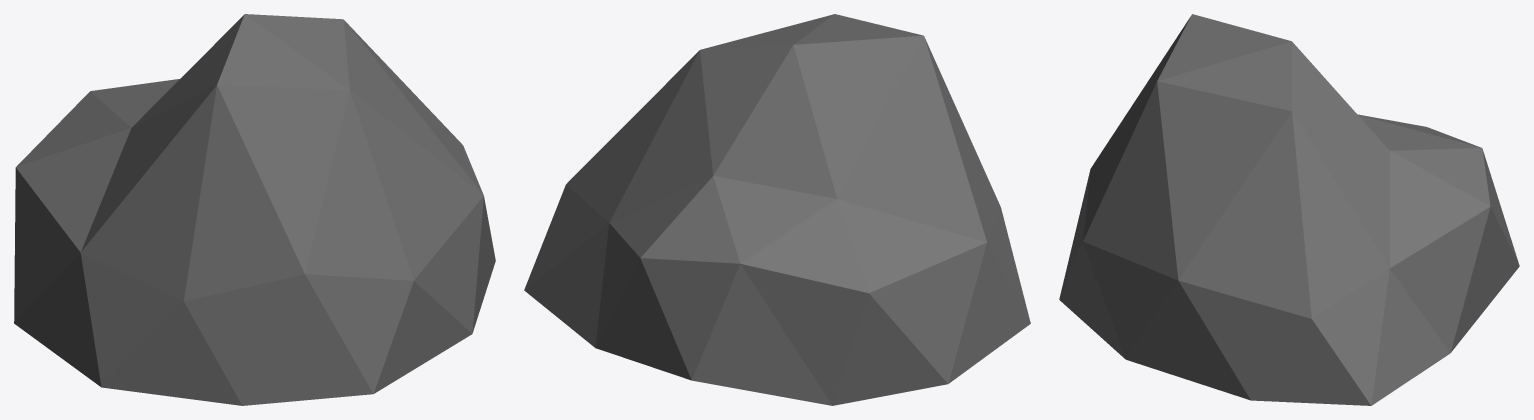
The model's file is Rock.fbx.
3 renders of one model, left to right at view 1: azimuth 30°, elevation 25°; view 2: azimuth 150°, elevation 25°; view 3: azimuth 270°, elevation 25°, orthographic. The views are drawn at different scales.
Parts seen in each view (by area): view 1: Rock; view 2: Rock; view 3: Rock.
Boxes of the visible parts, left/top/right/bottom form: Rock: left=14, top=14, right=495, bottom=405; Rock: left=524, top=14, right=1030, bottom=405; Rock: left=1059, top=14, right=1519, bottom=405.
Bounding box in the file's own units: 11.42 × 7.13 × 11.51.
